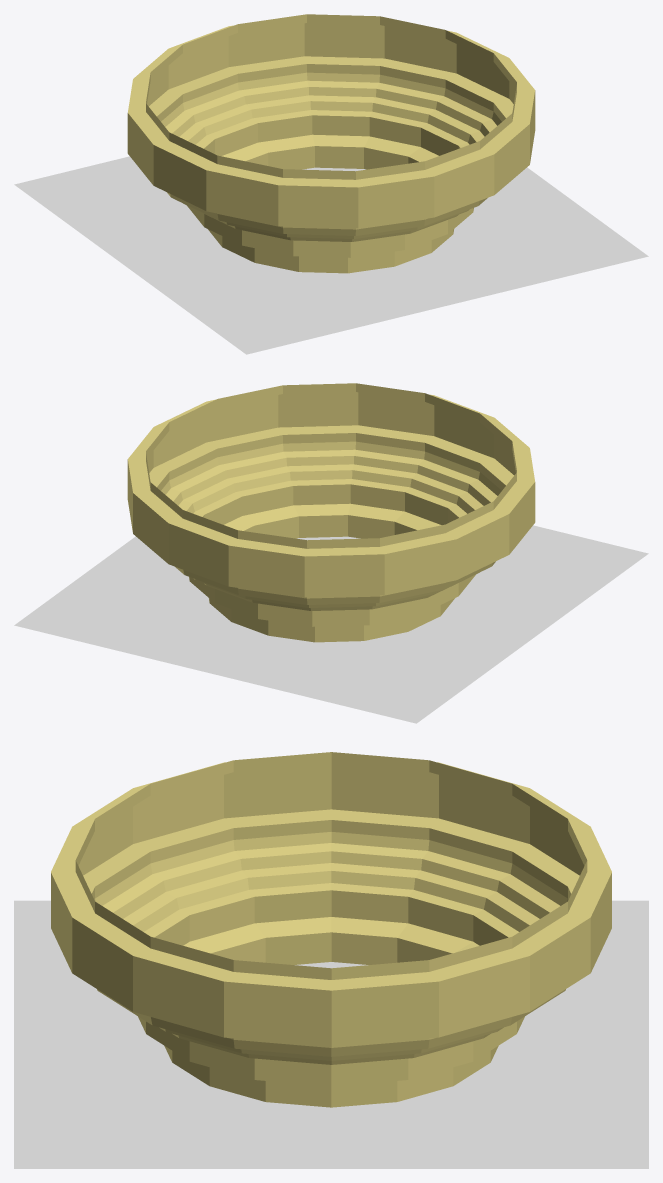
Rendered from coliseum.fbx.
The picture shows the model from 3 angles, top to bottom: view 1: azimuth 30°, elevation 25°; view 2: azimuth 150°, elevation 25°; view 3: azimuth 270°, elevation 25°; orthographic projection. The views are drawn at different scales.
Visible parts, largest first — view 1: Cylinder, Plane; view 2: Cylinder, Plane; view 3: Cylinder, Plane.
Boxes of the visible parts, box(x1,y1,x2,y2) form: Cylinder: box(127, 14, 535, 273); Plane: box(14, 156, 648, 354); Cylinder: box(127, 383, 535, 642); Plane: box(14, 525, 648, 723); Cylinder: box(51, 752, 611, 1107); Plane: box(14, 900, 648, 1168).
Size of the model in its own units: 4000 by 1244 by 4000.
